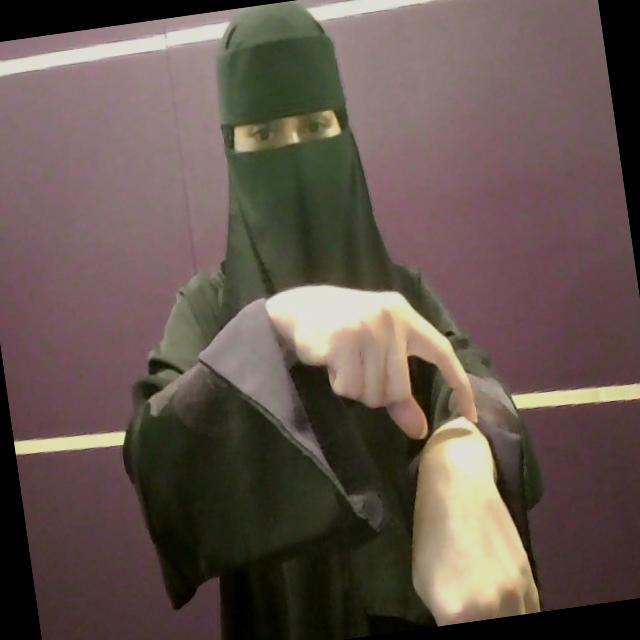appointment: (272, 252, 543, 640)
